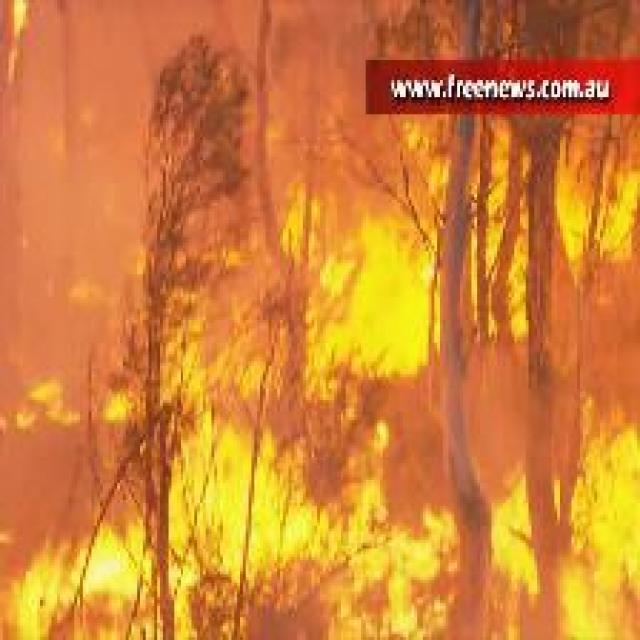Fire: (174, 403, 457, 640), (276, 118, 442, 382), (488, 425, 637, 640), (0, 517, 154, 640), (556, 143, 638, 263)
